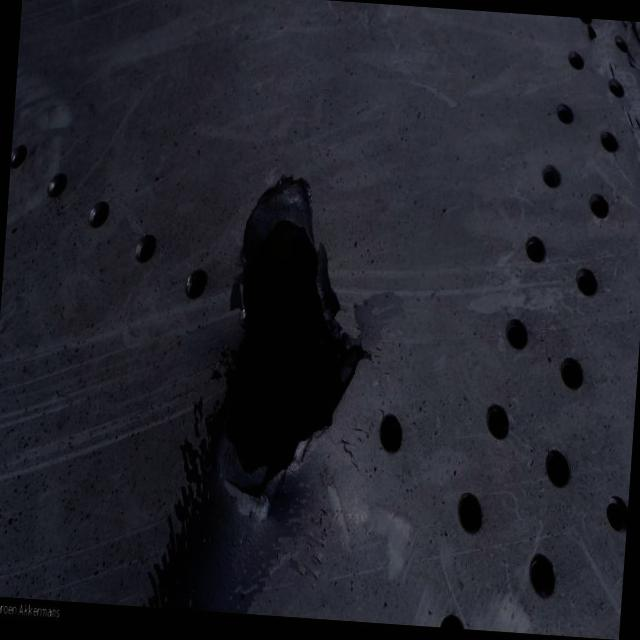crack: (205, 172, 386, 528), (566, 18, 640, 193)
